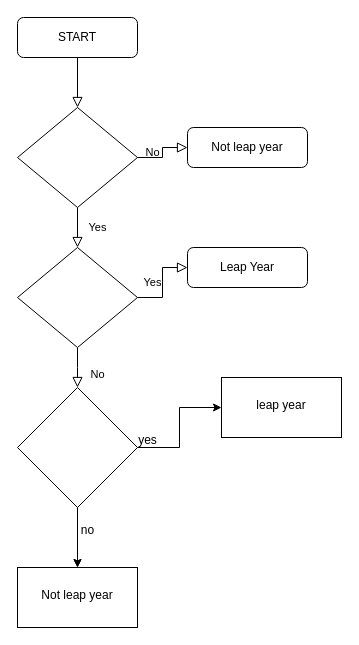
Some shapes in this 359 by 645 pixel diagram are drawn without their labels. Here are the shapes that lost their labels. From the top down, the centre of each, then its label:
At point (77, 157): "is it completely divisible by 4?".
At point (77, 297): "is it completely divisible by 100?".
At point (77, 447): "is it completely divisible by 400?".
